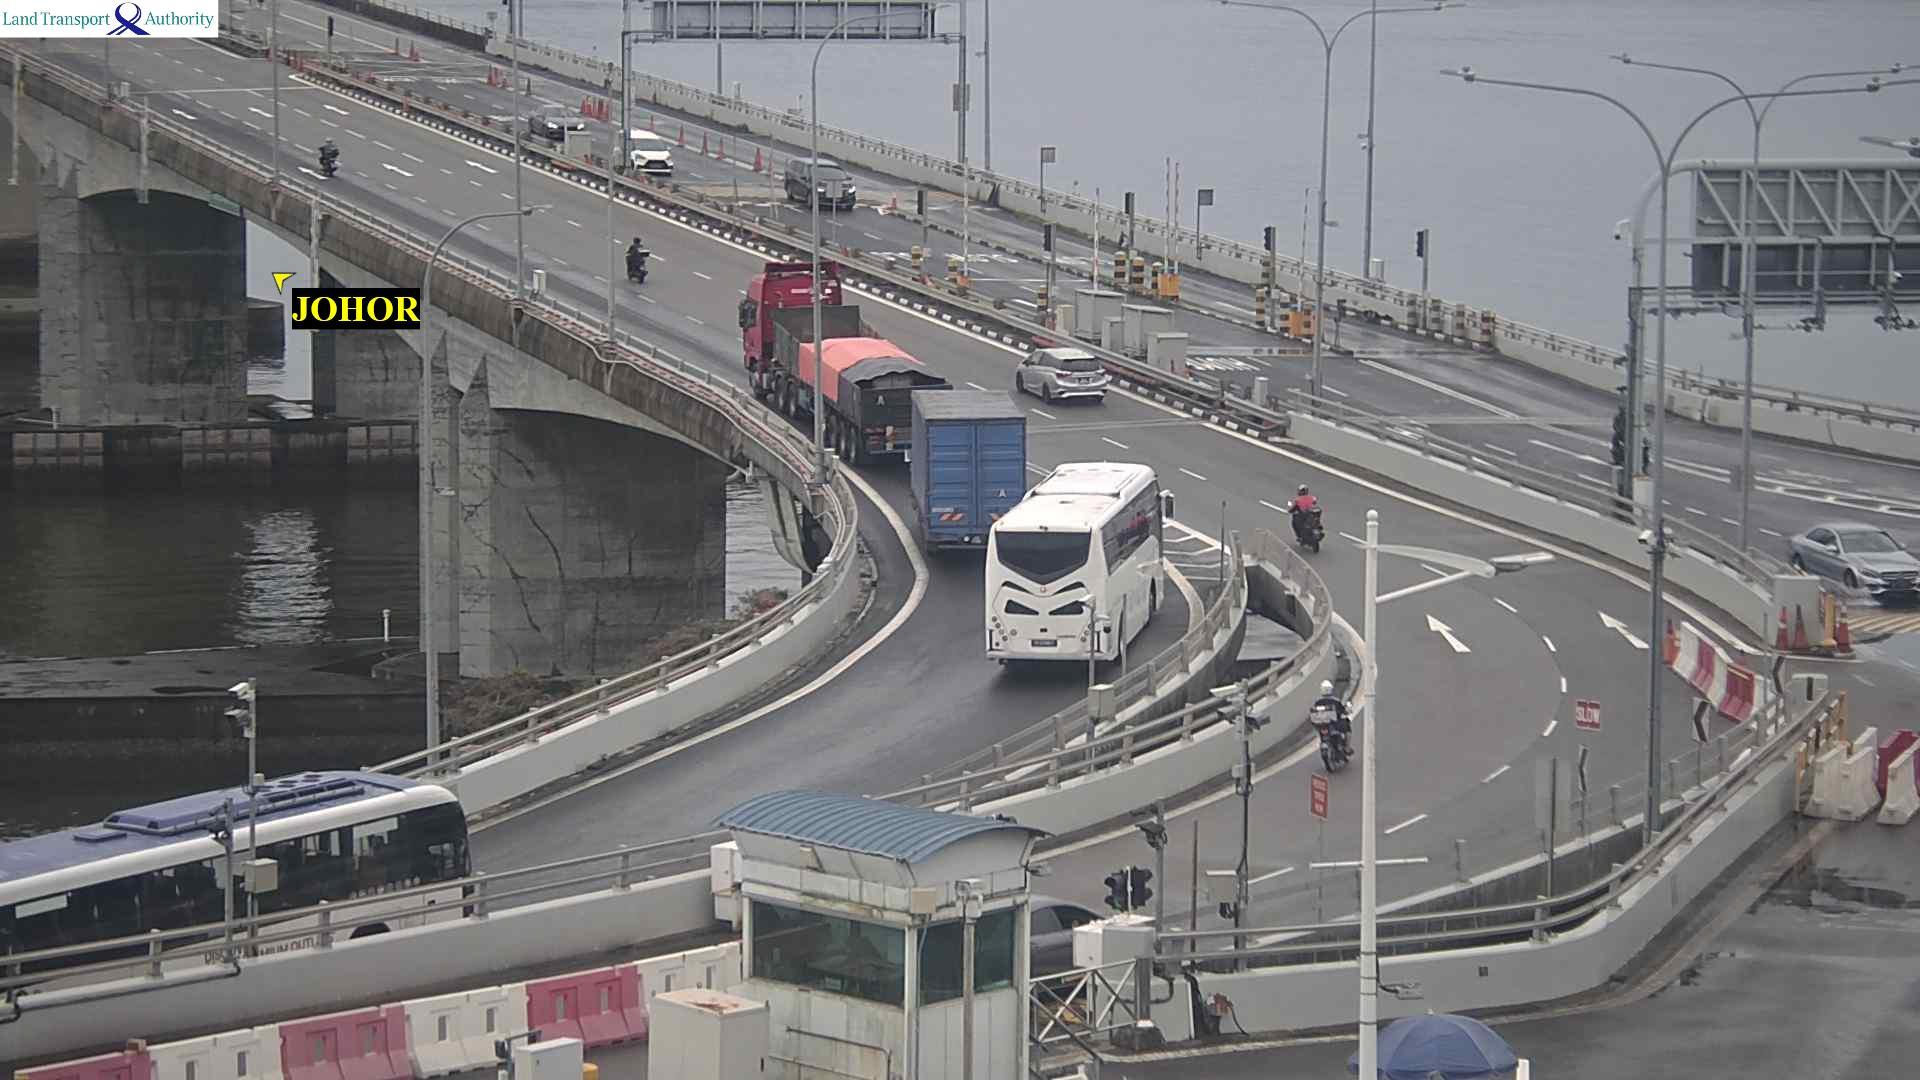vehicle-secondlink-johor: (32, 767, 472, 965), (0, 825, 225, 986), (998, 469, 1163, 671), (745, 258, 923, 444), (911, 392, 1015, 537), (1018, 348, 1105, 404), (1316, 687, 1360, 758), (1286, 485, 1321, 543), (625, 235, 653, 281), (316, 142, 342, 175)
vehicle-secondlink-singapore: (1800, 525, 1920, 591), (786, 157, 862, 203), (603, 131, 678, 167), (526, 111, 593, 136), (1875, 295, 1920, 331)
